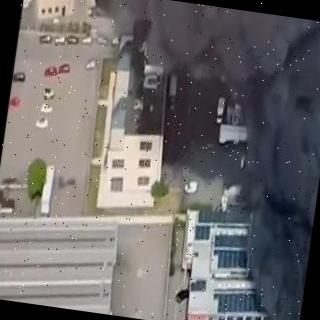smoke: (118, 0, 320, 187)
